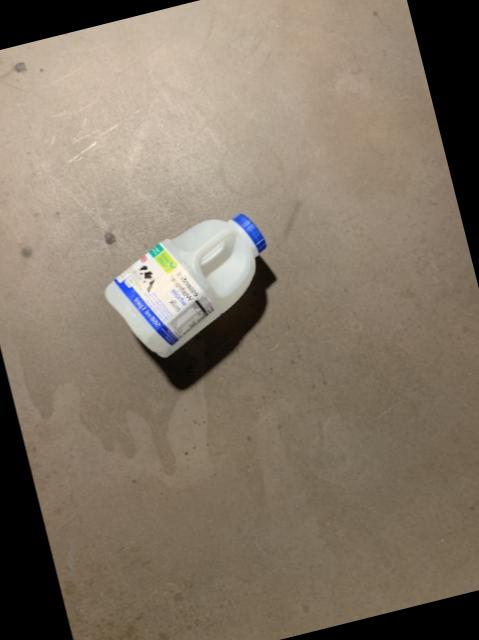plastic: (103, 217, 263, 359)
